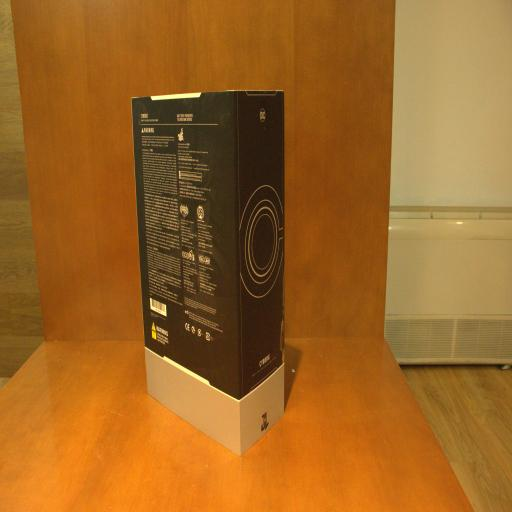Cyborg: (131, 90, 287, 459)
